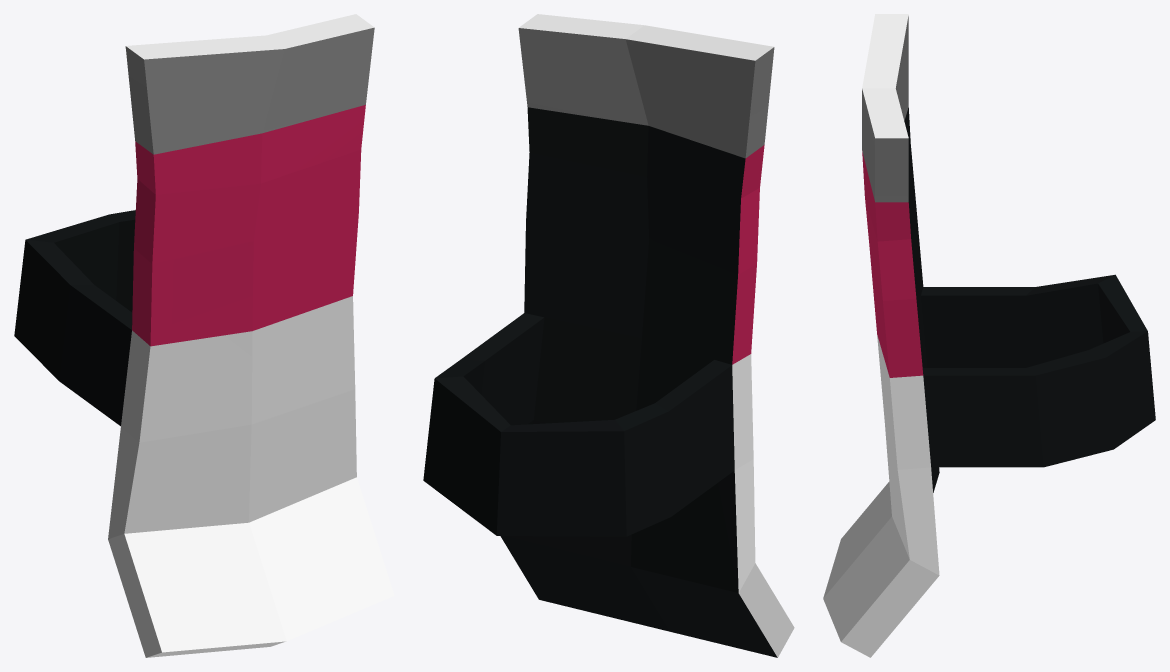
The model's file is Goalkeeper_2_Pad_Right.fbx.
3 renders of one model, left to right at view 1: azimuth 30°, elevation 25°; view 2: azimuth 150°, elevation 25°; view 3: azimuth 270°, elevation 25°, orthographic. The views are drawn at different scales.
Parts seen in each view (by area): view 1: Goalkeeper_2_Pad_Right; view 2: Goalkeeper_2_Pad_Right; view 3: Goalkeeper_2_Pad_Right.
Boxes of the visible parts, left/top/right/bottom form: Goalkeeper_2_Pad_Right: left=14, top=14, right=394, bottom=657; Goalkeeper_2_Pad_Right: left=423, top=14, right=794, bottom=657; Goalkeeper_2_Pad_Right: left=823, top=14, right=1155, bottom=657.
Bounding box in the file's own units: 21.68 × 53.96 × 29.58.
